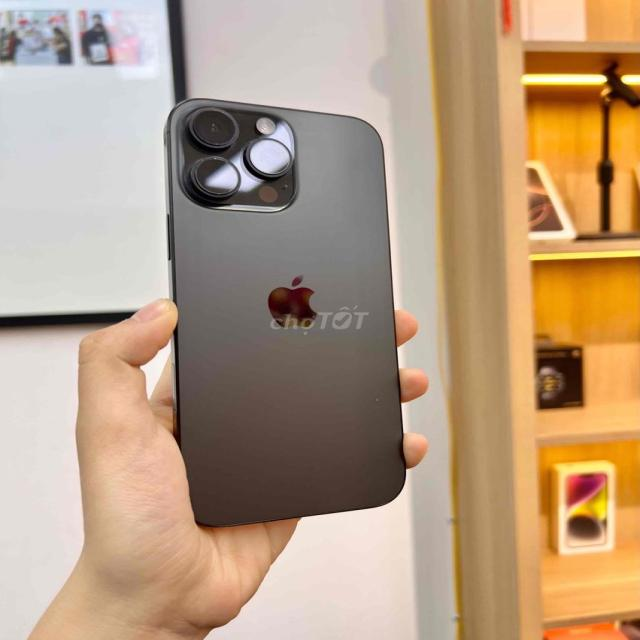gen_16: (165, 99, 405, 526)
